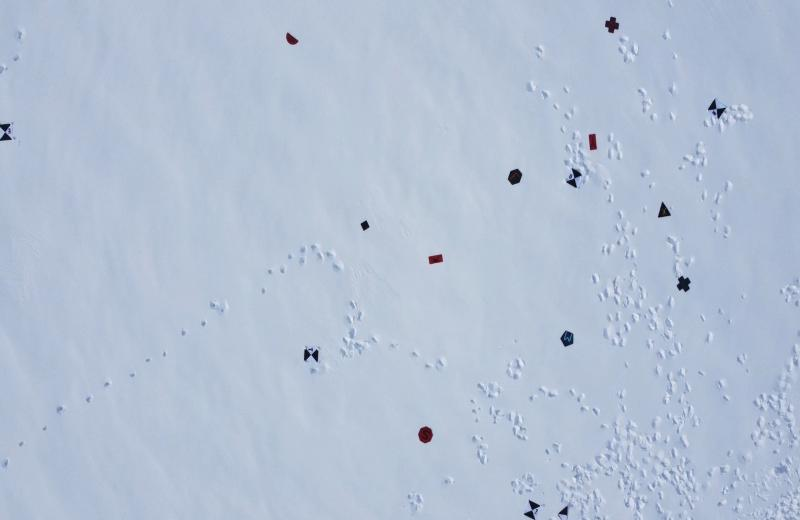Cross: (676, 274, 691, 293), (605, 16, 620, 32)
Hexagon: (507, 168, 523, 186)
Octagon: (416, 425, 434, 445)
Pentagon: (559, 329, 575, 348)
Rectangle: (588, 132, 598, 152), (428, 252, 444, 264)
Semi Circle: (285, 32, 299, 46)
Square: (361, 220, 370, 231)
Triangle: (656, 201, 672, 220)
